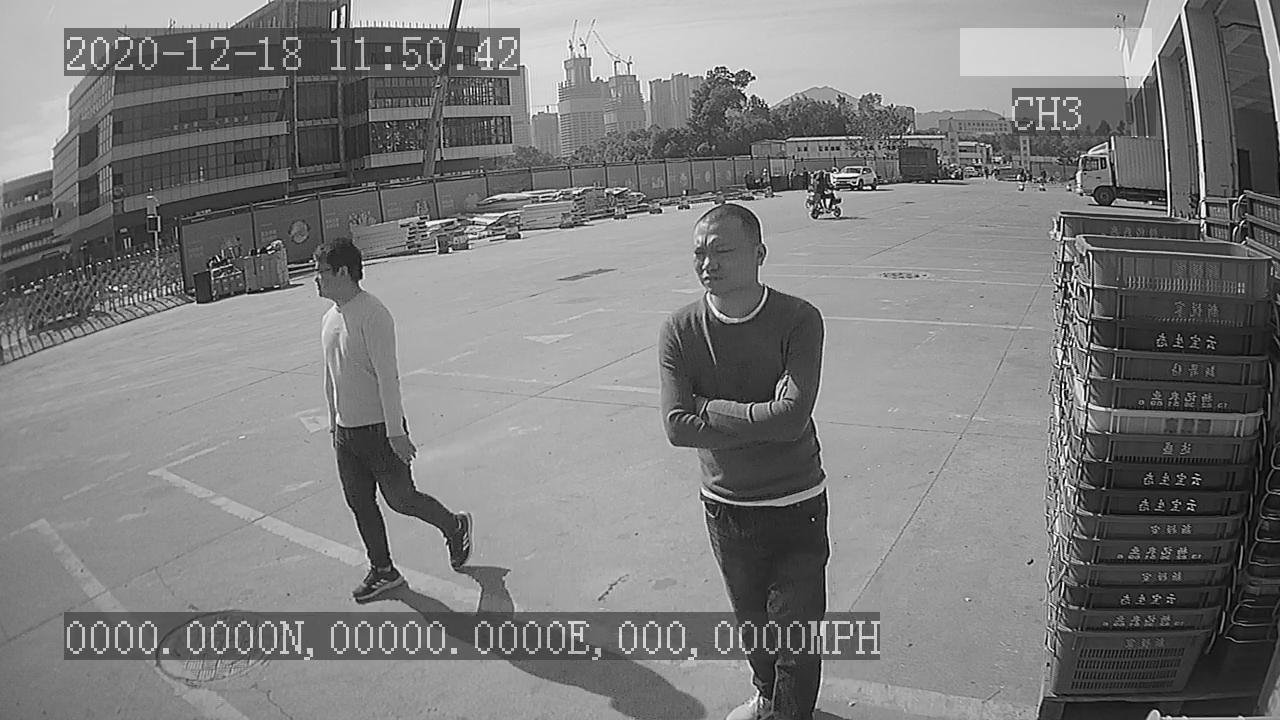person: (301, 236, 481, 606)
